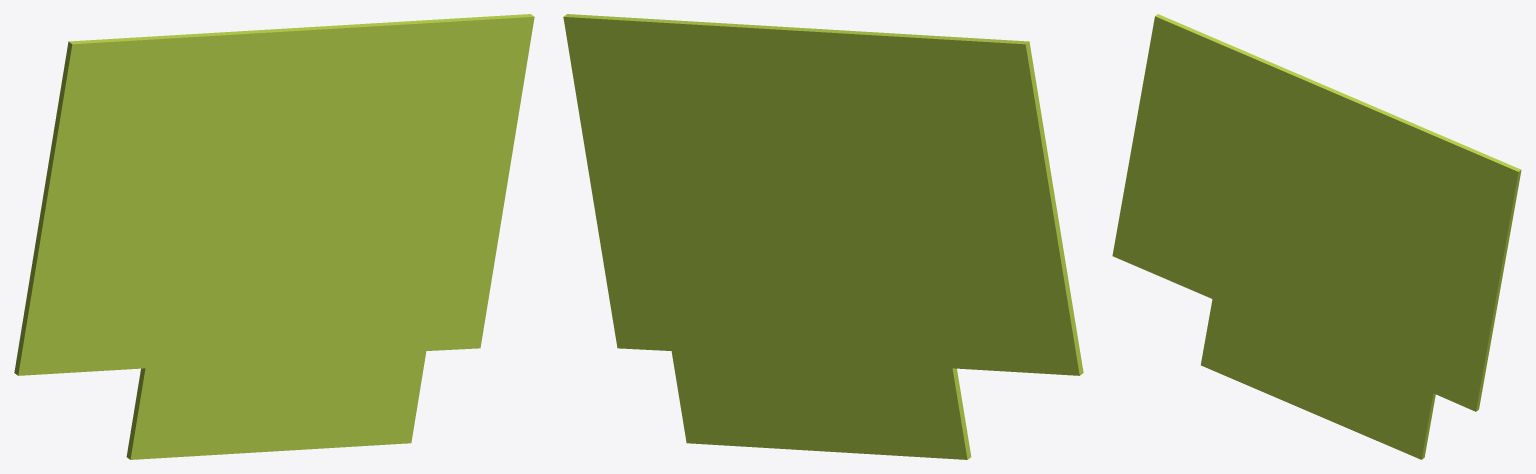
3 renders of one model, left to right at view 1: azimuth 30°, elevation 25°; view 2: azimuth 150°, elevation 25°; view 3: azimuth 330°, elevation 25°, orthographic. The views are drawn at different scales.
Visible parts, largest first — view 1: osm-way27917482-F0; view 2: osm-way27917482-F0; view 3: osm-way27917482-F0.
Part boxes in pixels (x1,y1,x2,y2): osm-way27917482-F0: (14, 14, 534, 459); osm-way27917482-F0: (563, 14, 1083, 459); osm-way27917482-F0: (1112, 14, 1521, 459).
Size of the model in its own units: 11.48 by 10.23 by 0.15.
